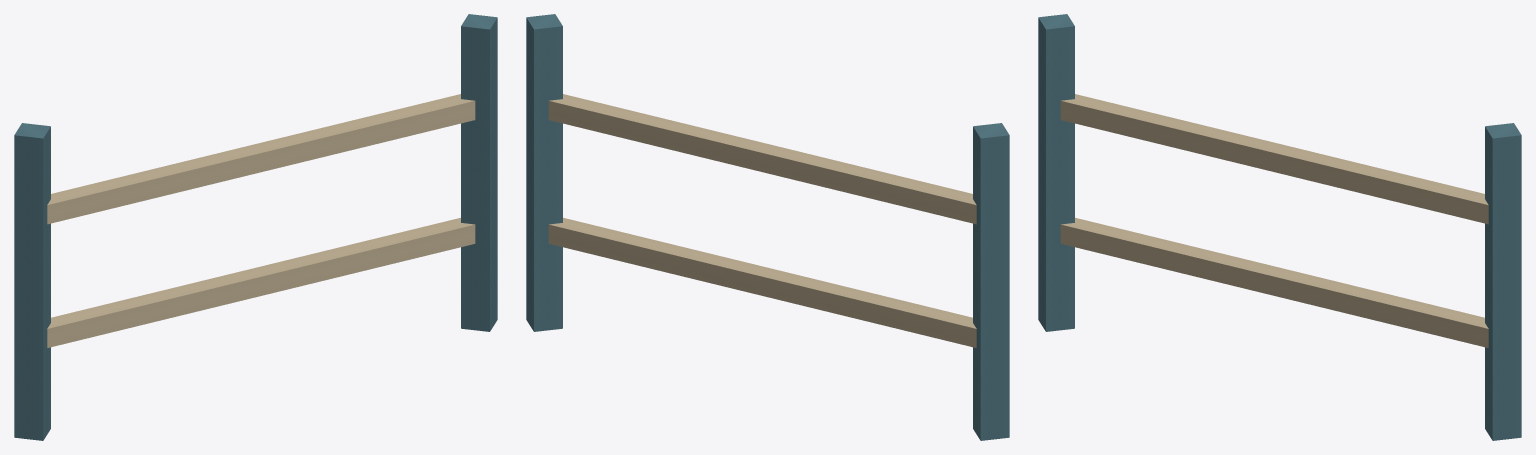
The model's file is atlas100-sailpunk-util04.lod2.glb.
3 renders of one model, left to right at view 1: azimuth 30°, elevation 25°; view 2: azimuth 150°, elevation 25°; view 3: azimuth 330°, elevation 25°, orthographic.
Parts seen in each view (by area): view 1: atlas100-sailpunk-util04:part-004, atlas100-sailpunk-util04:part-005, atlas100-sailpunk-util04:part-000, atlas100-sailpunk-util04:part-002; view 2: atlas100-sailpunk-util04:part-004, atlas100-sailpunk-util04:part-005, atlas100-sailpunk-util04:part-000, atlas100-sailpunk-util04:part-002; view 3: atlas100-sailpunk-util04:part-004, atlas100-sailpunk-util04:part-005, atlas100-sailpunk-util04:part-002, atlas100-sailpunk-util04:part-000.
Boxes of the visible parts, x1,y1,x2,y2 form: atlas100-sailpunk-util04:part-004: [47, 217, 475, 347]; atlas100-sailpunk-util04:part-005: [47, 94, 475, 224]; atlas100-sailpunk-util04:part-000: [14, 123, 50, 440]; atlas100-sailpunk-util04:part-002: [461, 14, 497, 331]; atlas100-sailpunk-util04:part-004: [548, 217, 976, 347]; atlas100-sailpunk-util04:part-005: [548, 94, 976, 224]; atlas100-sailpunk-util04:part-000: [973, 123, 1009, 440]; atlas100-sailpunk-util04:part-002: [526, 14, 562, 331]; atlas100-sailpunk-util04:part-004: [1060, 217, 1488, 347]; atlas100-sailpunk-util04:part-005: [1060, 94, 1488, 224]; atlas100-sailpunk-util04:part-002: [1485, 123, 1521, 440]; atlas100-sailpunk-util04:part-000: [1038, 14, 1074, 331].
Bounding box in the file's own units: 2.05 × 1.23 × 0.1561.
Materials: 2 (2 with a texture image).
